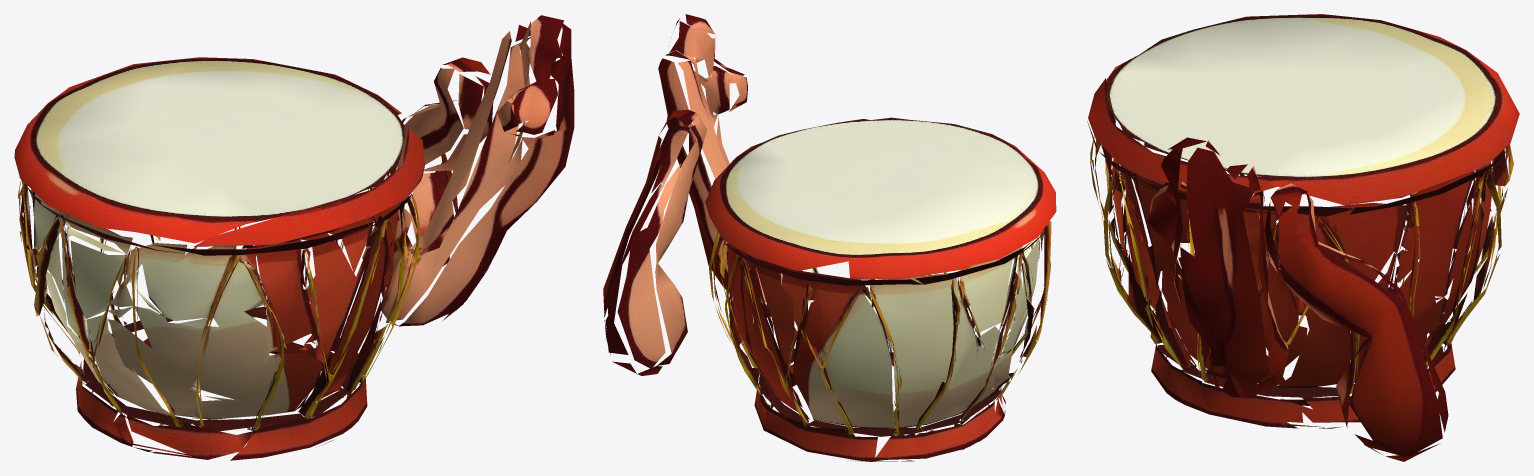
The model's file is kucuk_davul.glb.
The picture shows the model from 3 angles, left to right: view 1: azimuth 30°, elevation 25°; view 2: azimuth 150°, elevation 25°; view 3: azimuth 270°, elevation 25°; orthographic projection. The views are drawn at different scales.
Parts seen in each view (by area): view 1: geometry_0; view 2: geometry_0; view 3: geometry_0.
Boxes of the visible parts, x1,y1,x2,y2 form: geometry_0: (14,15,574,460); geometry_0: (603,14,1056,461); geometry_0: (1087,14,1519,461).
Bounding box in the file's own units: 1 × 0.7225 × 0.7682.
Materials: 1 (1 with a texture image).
